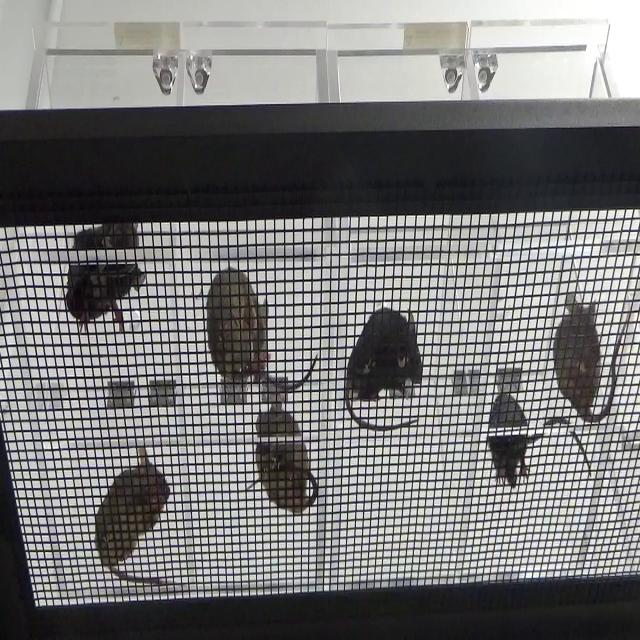scratch: (50, 226, 152, 354)
